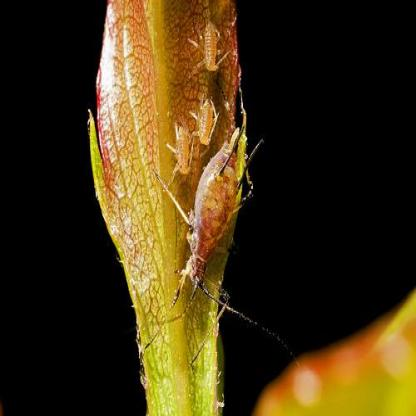aphid: (162, 127, 246, 335), (192, 15, 232, 85), (166, 116, 198, 194), (193, 84, 221, 162)
